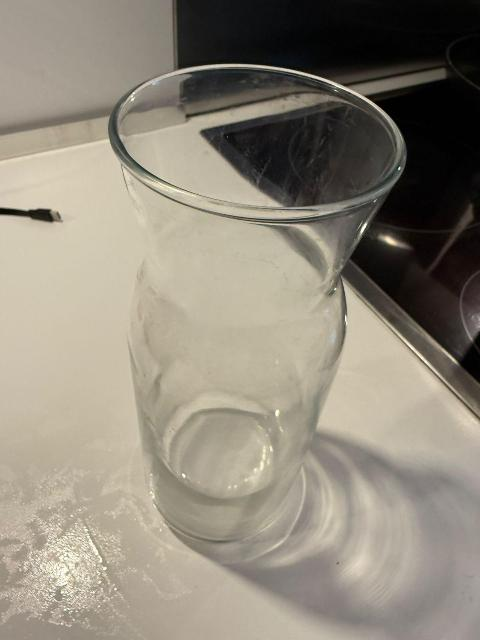Cam: (95, 63, 413, 543)
